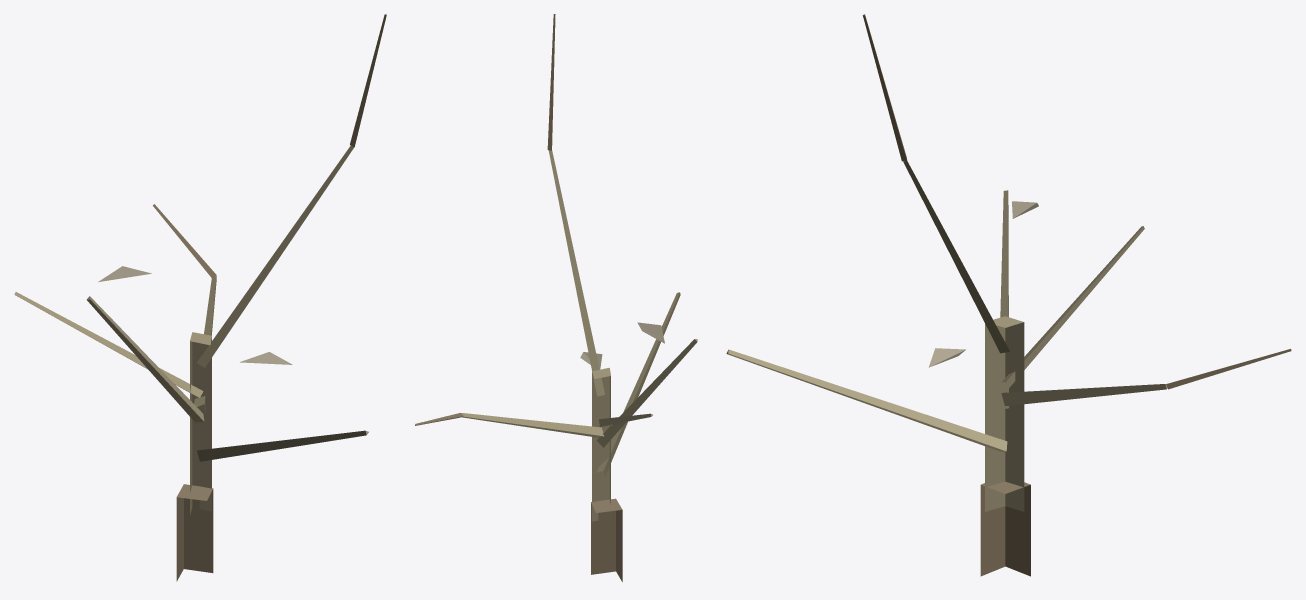
Rendered from shu.binglang@withered__summer.glb.
The picture shows the model from 3 angles, left to right: view 1: azimuth 30°, elevation 25°; view 2: azimuth 150°, elevation 25°; view 3: azimuth 270°, elevation 25°; orthographic projection. The views are drawn at different scales.
Visible parts, largest first — view 1: shu.binglang@withered__summer; view 2: shu.binglang@withered__summer; view 3: shu.binglang@withered__summer.
Part boxes in pixels (<box>): shu.binglang@withered__summer: <box>14,14,386,581</box>; shu.binglang@withered__summer: <box>415,14,697,581</box>; shu.binglang@withered__summer: <box>726,14,1291,576</box>.
Bounding box in the file's own units: 2.55 × 5.79 × 4.72.
